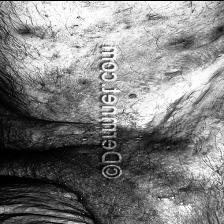Non-Cancerous Skin Condition: (36, 66, 92, 97), (156, 137, 186, 153)
